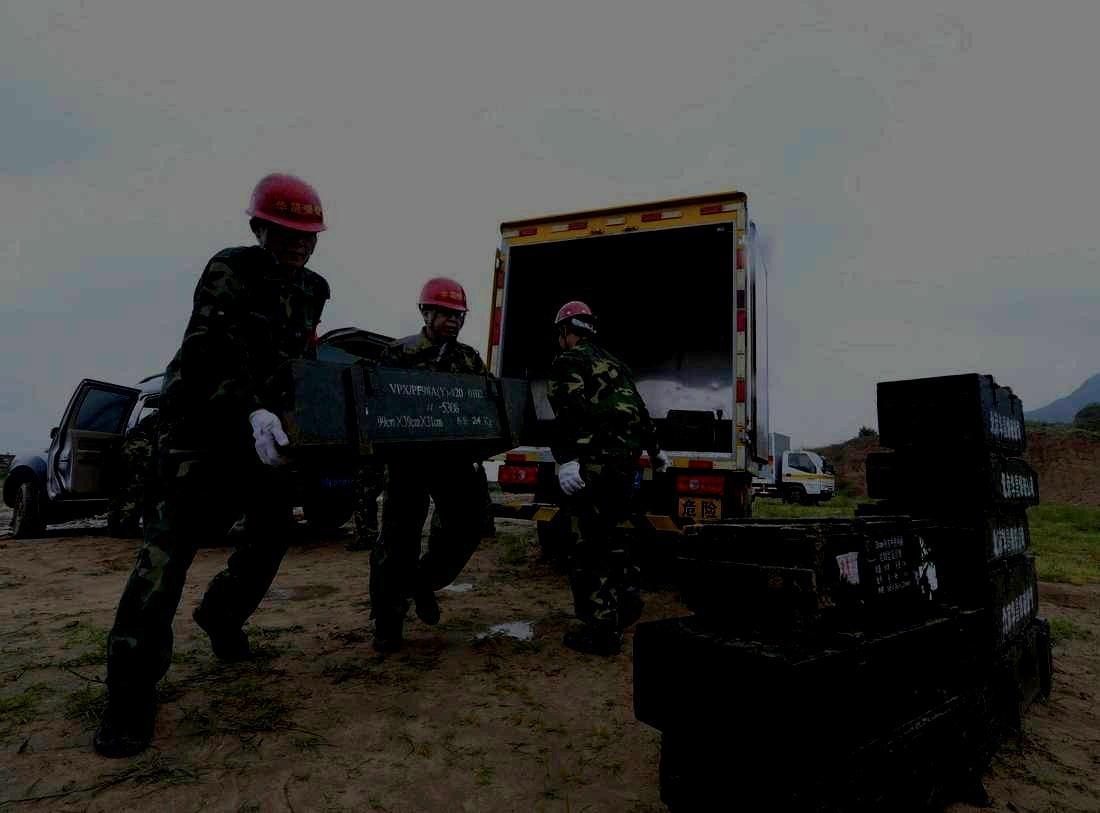helmet: (245, 172, 328, 269), (416, 277, 470, 340), (554, 300, 597, 349)
